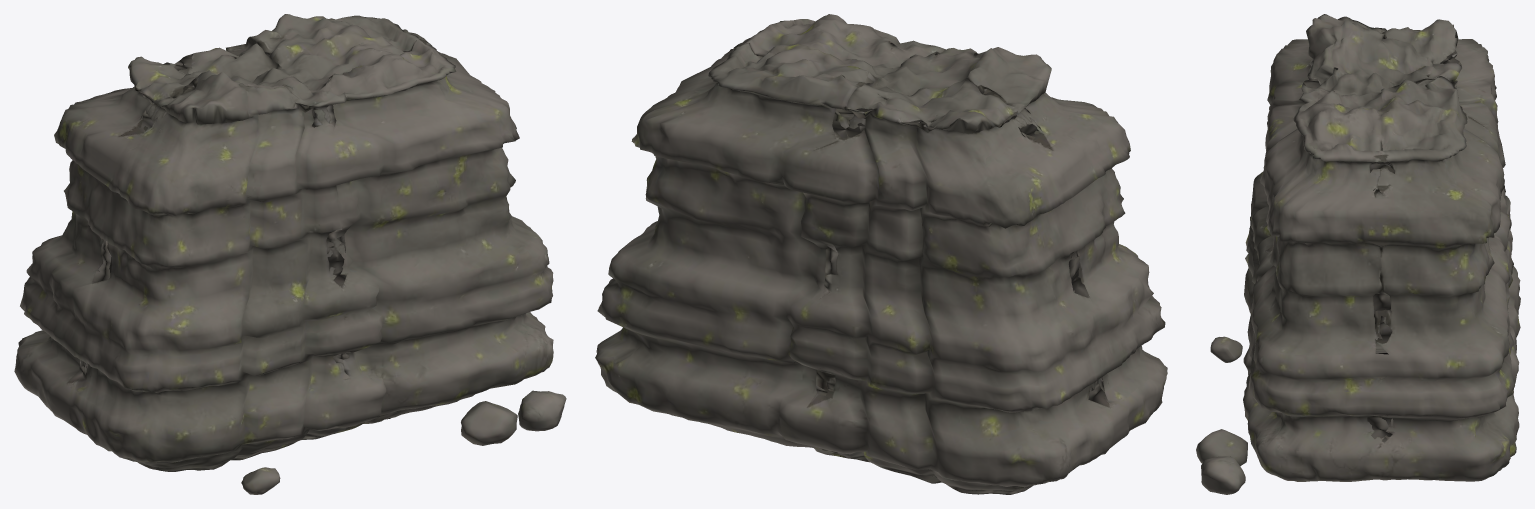
The model's file is mossy-crag.glb.
3 views of the same model, side by side, from view 1: azimuth 30°, elevation 25°; view 2: azimuth 150°, elevation 25°; view 3: azimuth 270°, elevation 25° (orthographic). The views are drawn at different scales.
Parts seen in each view (by area): view 1: cliff_stone; view 2: cliff_stone; view 3: cliff_stone.
Boxes of the visible parts, left/top/right/bottom form: cliff_stone: left=14, top=14, right=566, bottom=494; cliff_stone: left=595, top=14, right=1167, bottom=494; cliff_stone: left=1196, top=14, right=1520, bottom=494.
Size of the model in its own units: 3.05 by 2.36 by 1.99.
Materials: 1 (1 with a texture image).
